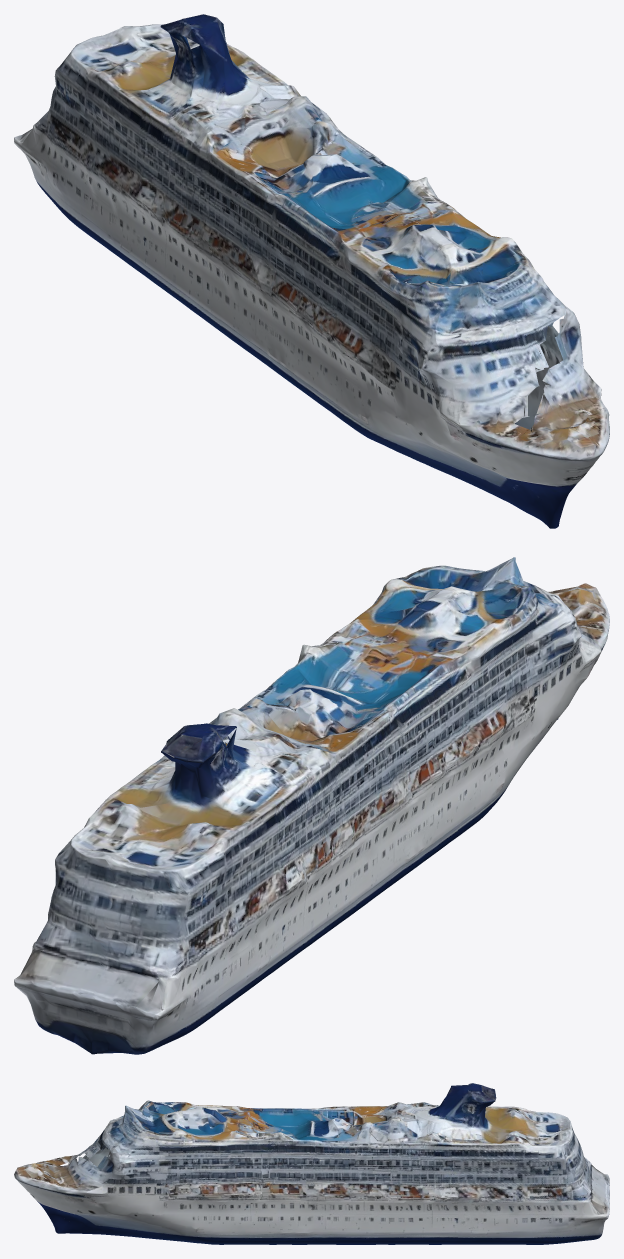
File: cruise.glb
3 views of the same model, one above another, from view 1: azimuth 30°, elevation 25°; view 2: azimuth 150°, elevation 25°; view 3: azimuth 270°, elevation 25° (orthographic). The views are drawn at different scales.
Parts seen in each view (by area): view 1: tripo_node_fa5f4bae-15ca-4bf6-850e-cf6df869e187; view 2: tripo_node_fa5f4bae-15ca-4bf6-850e-cf6df869e187; view 3: tripo_node_fa5f4bae-15ca-4bf6-850e-cf6df869e187.
Part boxes in pixels (box(x1,y1,x2,y2)): tripo_node_fa5f4bae-15ca-4bf6-850e-cf6df869e187: box(14, 14, 609, 528); tripo_node_fa5f4bae-15ca-4bf6-850e-cf6df869e187: box(14, 557, 609, 1054); tripo_node_fa5f4bae-15ca-4bf6-850e-cf6df869e187: box(14, 1083, 609, 1244).
Bounding box in the file's own units: 0.1796 × 0.2707 × 1.
Materials: 1 (1 with a texture image).
